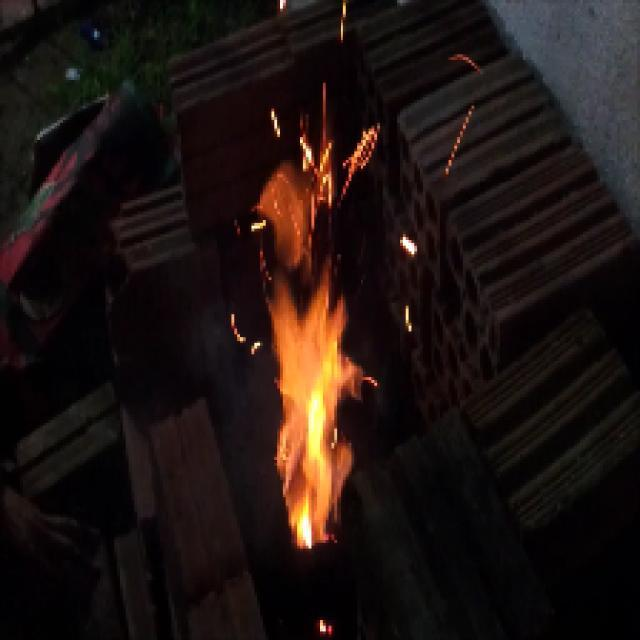Fire: (260, 132, 372, 554)
Smoke: (186, 294, 271, 509)
